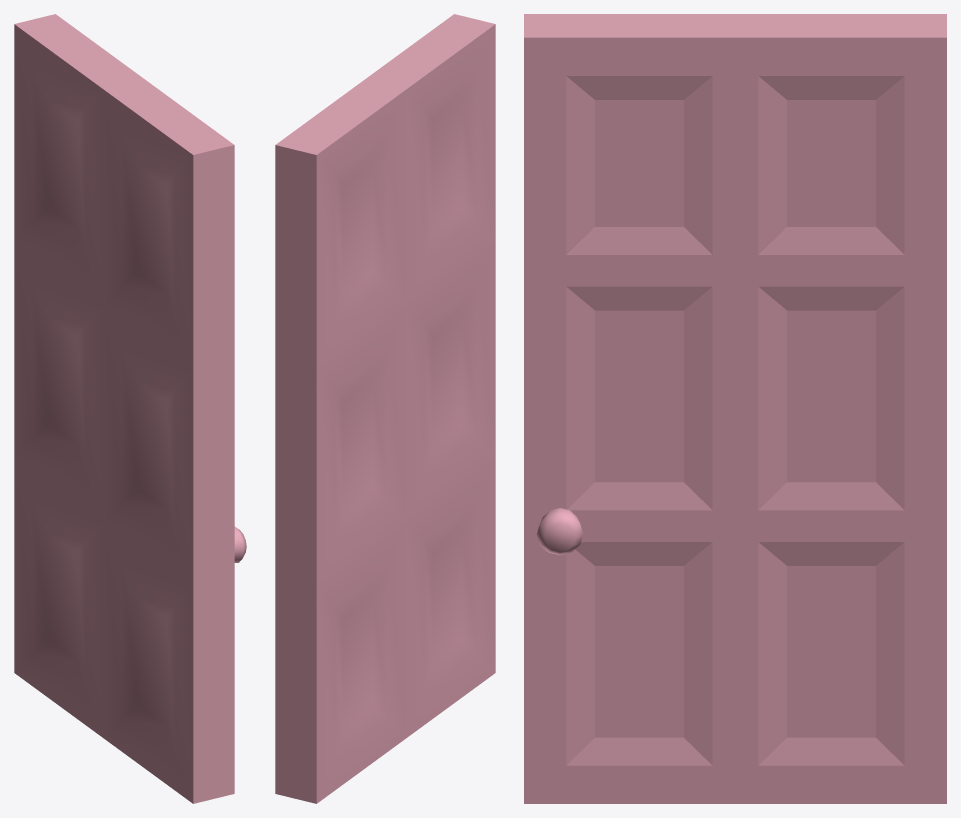
The model's file is ApartmentDoor.fbx.
The picture shows the model from 3 angles, left to right: view 1: azimuth 30°, elevation 25°; view 2: azimuth 150°, elevation 25°; view 3: azimuth 270°, elevation 25°; orthographic projection. The views are drawn at different scales.
Parts seen in each view (by area): view 1: ApartmentDoor; view 2: ApartmentDoor; view 3: ApartmentDoor.
Part boxes in pixels (x1,y1,x2,y2): ApartmentDoor: (14, 14, 246, 803); ApartmentDoor: (275, 14, 495, 803); ApartmentDoor: (524, 14, 946, 803).
Size of the model in its own units: 30.04 by 300 by 150.
